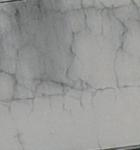fissura: (5, 56, 131, 115)
